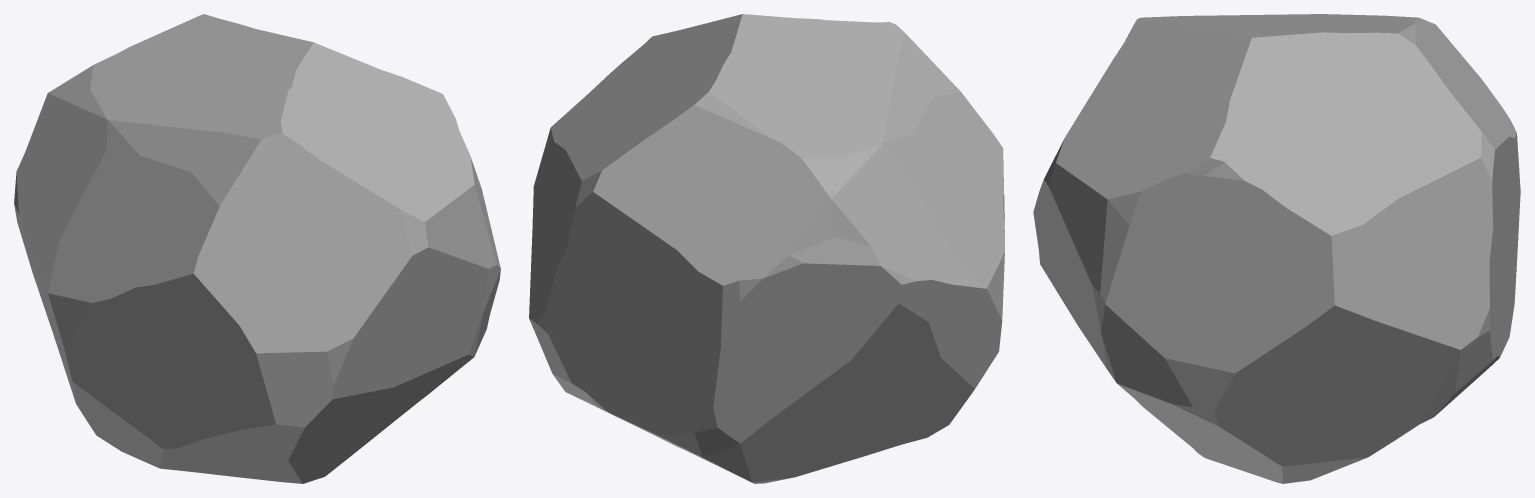
The model's file is big-rock.glb.
3 renders of one model, left to right at view 1: azimuth 30°, elevation 25°; view 2: azimuth 150°, elevation 25°; view 3: azimuth 270°, elevation 25°, orthographic. The views are drawn at different scales.
Parts seen in each view (by area): view 1: Rock_002_LOD0.001; view 2: Rock_002_LOD0.001; view 3: Rock_002_LOD0.001.
Boxes of the visible parts, left/top/right/bottom form: Rock_002_LOD0.001: left=14, top=14, right=500, bottom=483; Rock_002_LOD0.001: left=529, top=14, right=1004, bottom=483; Rock_002_LOD0.001: left=1033, top=14, right=1520, bottom=483.
Bounding box in the file's own units: 1.66 × 1.59 × 1.64.
1 material, 1 textured.
